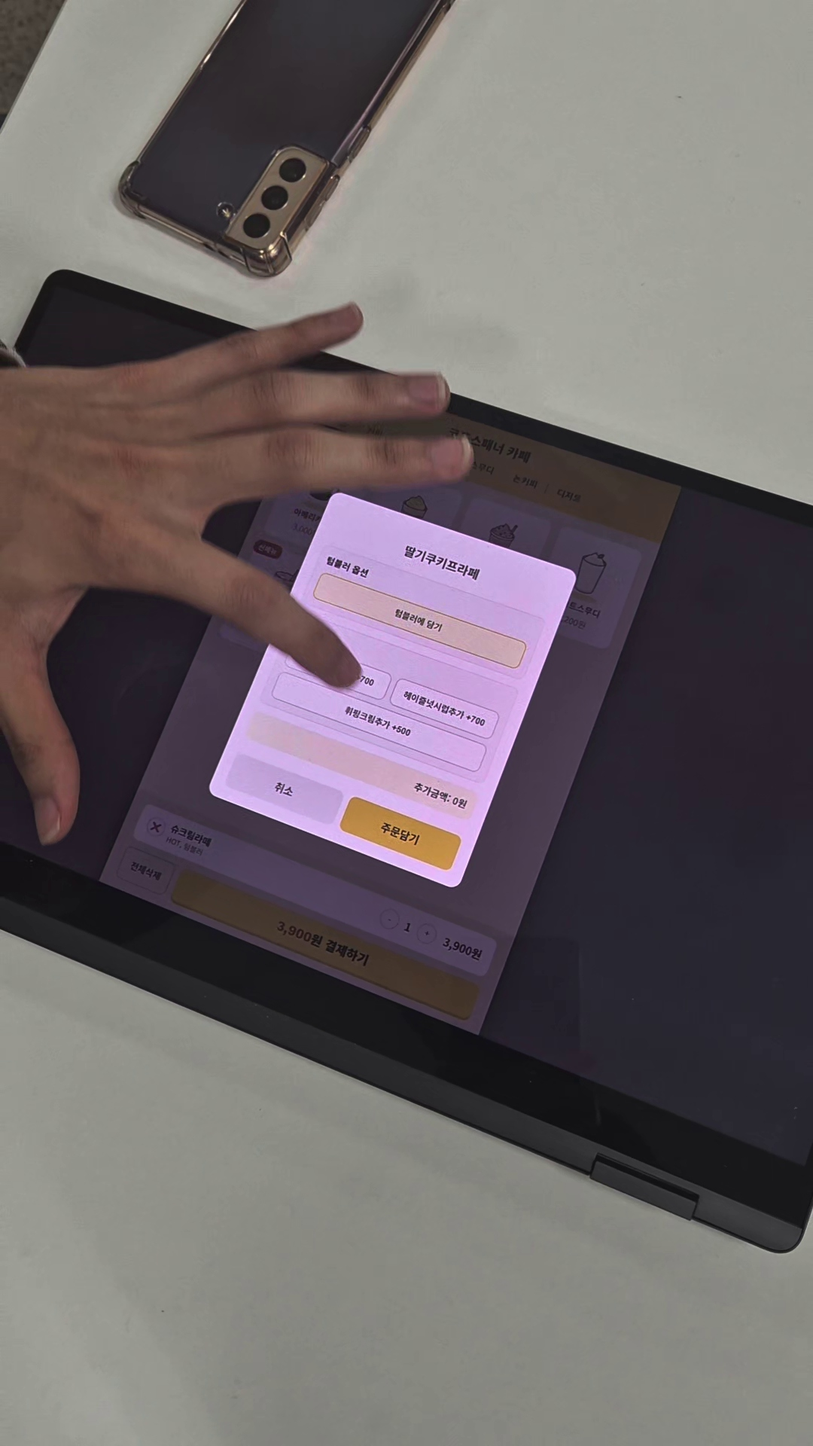action_button: (337, 796, 463, 872), (222, 750, 346, 826)
menu_name: (395, 540, 482, 584)
option_button: (268, 670, 489, 775), (311, 571, 526, 670), (385, 675, 502, 741)
popup_modal: (201, 480, 581, 894)
